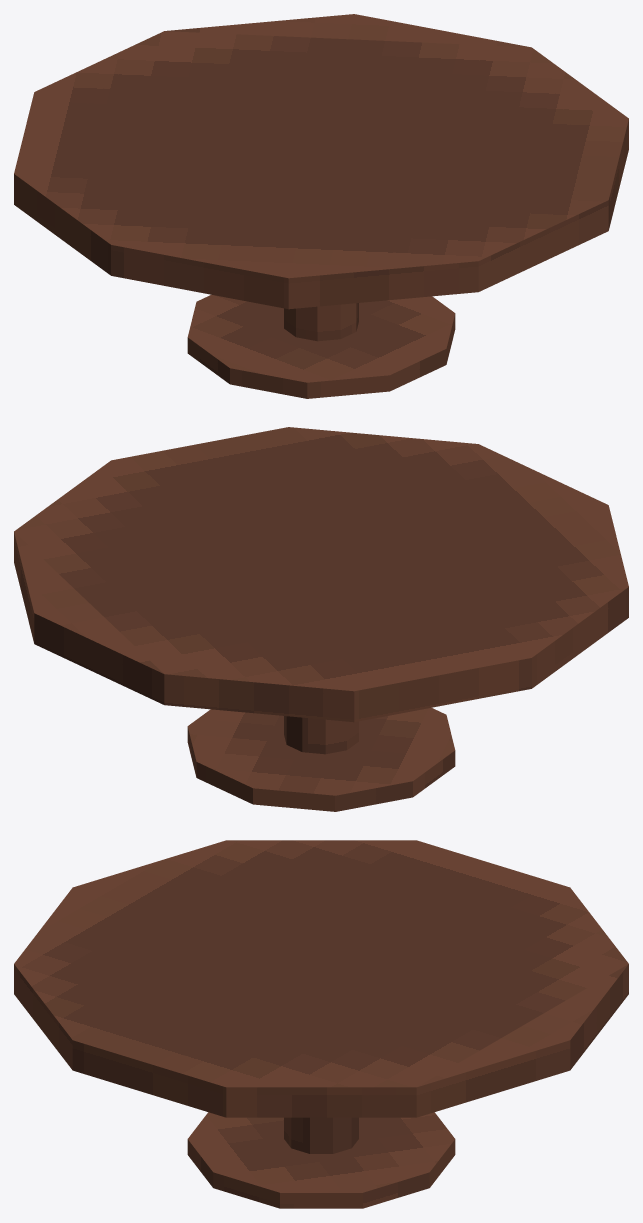
The model's file is table.dae.
3 renders of one model, top to bottom at view 1: azimuth 30°, elevation 25°; view 2: azimuth 150°, elevation 25°; view 3: azimuth 270°, elevation 25°, orthographic. The views are drawn at different scales.
Parts seen in each view (by area): view 1: Cylinder; view 2: Cylinder; view 3: Cylinder.
Boxes of the visible parts, left/top/right/bottom form: Cylinder: left=14, top=14, right=628, bottom=398; Cylinder: left=14, top=427, right=628, bottom=811; Cylinder: left=14, top=840, right=628, bottom=1208.
Size of the model in its own units: 3.67 by 3.86 by 1.32.
1 material, 1 textured.
